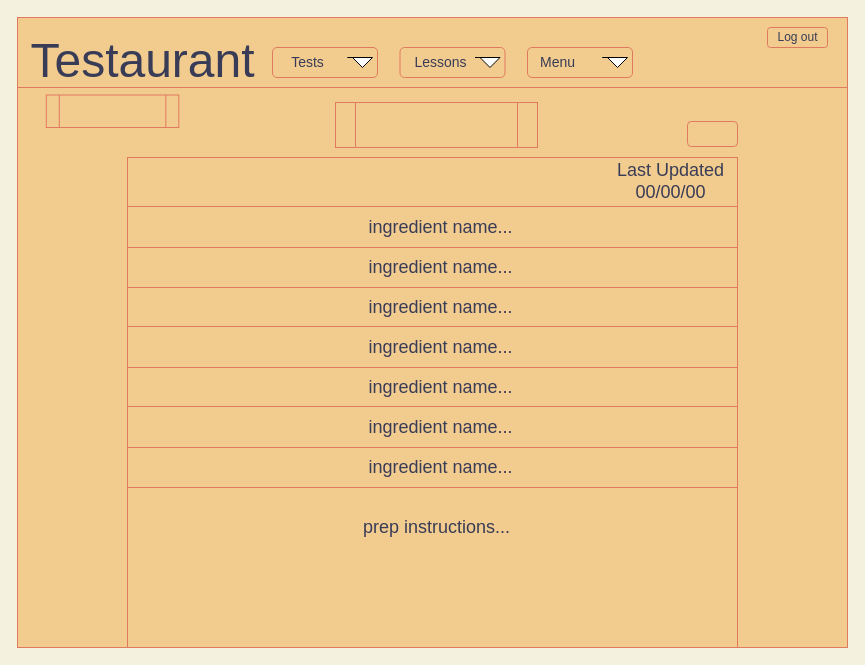
Image size: 865x665. Some labels were removed from this diagram. The shapes that lost their labels are listed below. From the top down, each one's centre as x and y in pixels, then its label:
At [112,111]: "Food".
At [436,125]: "Hambo".
At [712,133]: "Edit".
